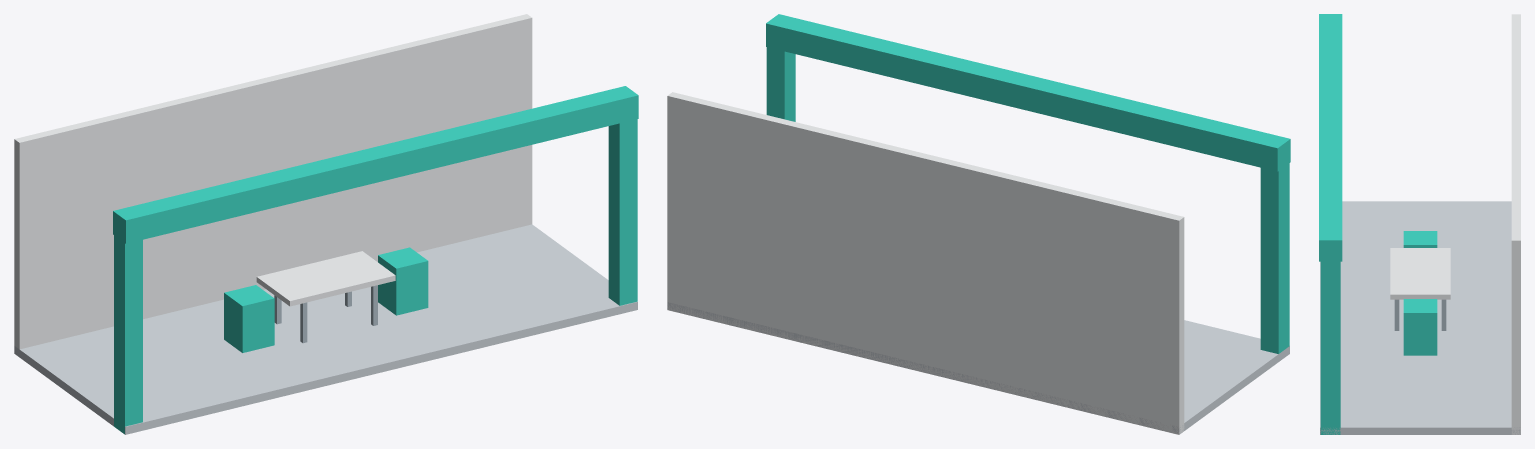
3 views of the same model, side by side, from view 1: azimuth 30°, elevation 25°; view 2: azimuth 150°, elevation 25°; view 3: azimuth 270°, elevation 25° (orthographic). The views are drawn at different scales.
Parts seen in each view (by area): view 1: Exhibition Booth Concept; view 2: Exhibition Booth Concept; view 3: Exhibition Booth Concept.
Boxes of the visible parts, x1,y1,x2,y2 form: Exhibition Booth Concept: [14, 14, 638, 434]; Exhibition Booth Concept: [667, 14, 1290, 434]; Exhibition Booth Concept: [1319, 14, 1520, 434].
Size of the model in its own units: 8 by 3.2 by 3.01.
